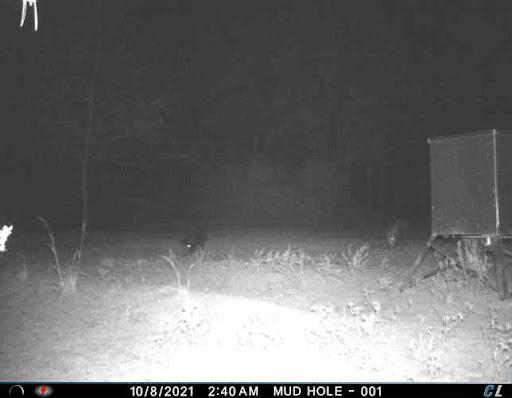Hog: (380, 212, 420, 258), (177, 219, 208, 260)
